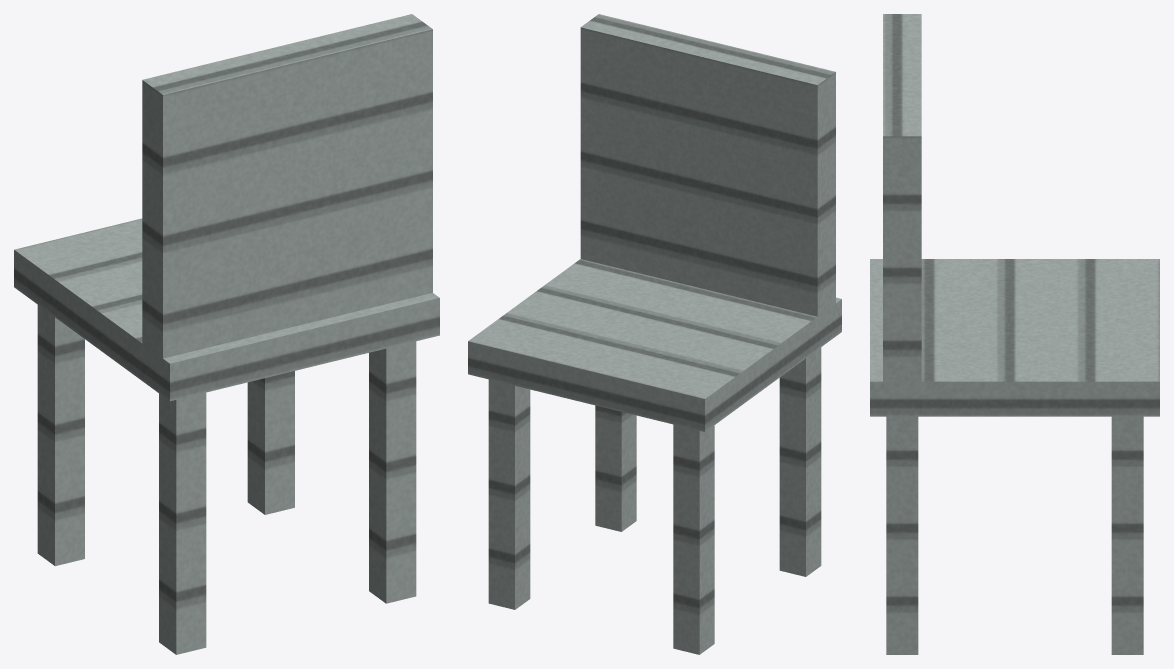
Rendered from folding_stacking_chair.glb.
3 renders of one model, left to right at view 1: azimuth 30°, elevation 25°; view 2: azimuth 150°, elevation 25°; view 3: azimuth 270°, elevation 25°, orthographic. The views are drawn at different scales.
Parts seen in each view (by area): view 1: folding_stacking_chair-col; view 2: folding_stacking_chair-col; view 3: folding_stacking_chair-col.
Boxes of the visible parts, left/top/right/bottom form: folding_stacking_chair-col: left=14, top=14, right=439, bottom=654; folding_stacking_chair-col: left=468, top=14, right=841, bottom=654; folding_stacking_chair-col: left=870, top=14, right=1159, bottom=654.
Bounding box in the file's own units: 0.45 × 0.9 × 0.45.
Materials: 1 (1 with a texture image).
